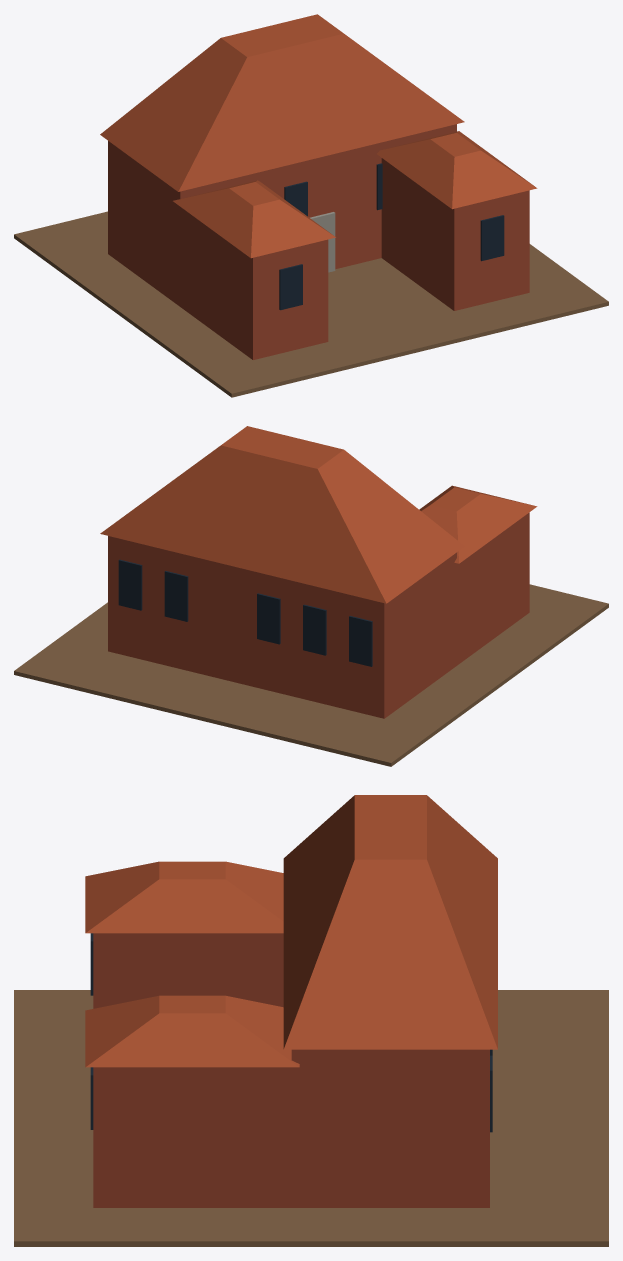
Rendered from bld_special_hospital_a04.glb.
The picture shows the model from 3 angles, top to bottom: view 1: azimuth 30°, elevation 25°; view 2: azimuth 150°, elevation 25°; view 3: azimuth 270°, elevation 25°; orthographic projection. The views are drawn at different scales.
Visible parts, largest first — view 1: body; view 2: body; view 3: body.
Part boxes in pixels (x1,y1,x2,y2): body: (14, 14, 608, 397); body: (14, 426, 608, 766); body: (14, 795, 608, 1246).
Size of what is drawn, in the model's own units: 15 by 8.17 by 15.
